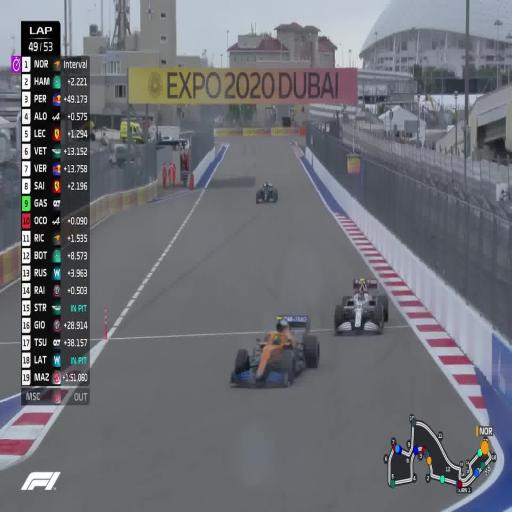f1_car: (230, 316, 319, 387), (334, 277, 388, 334), (257, 182, 278, 203)
